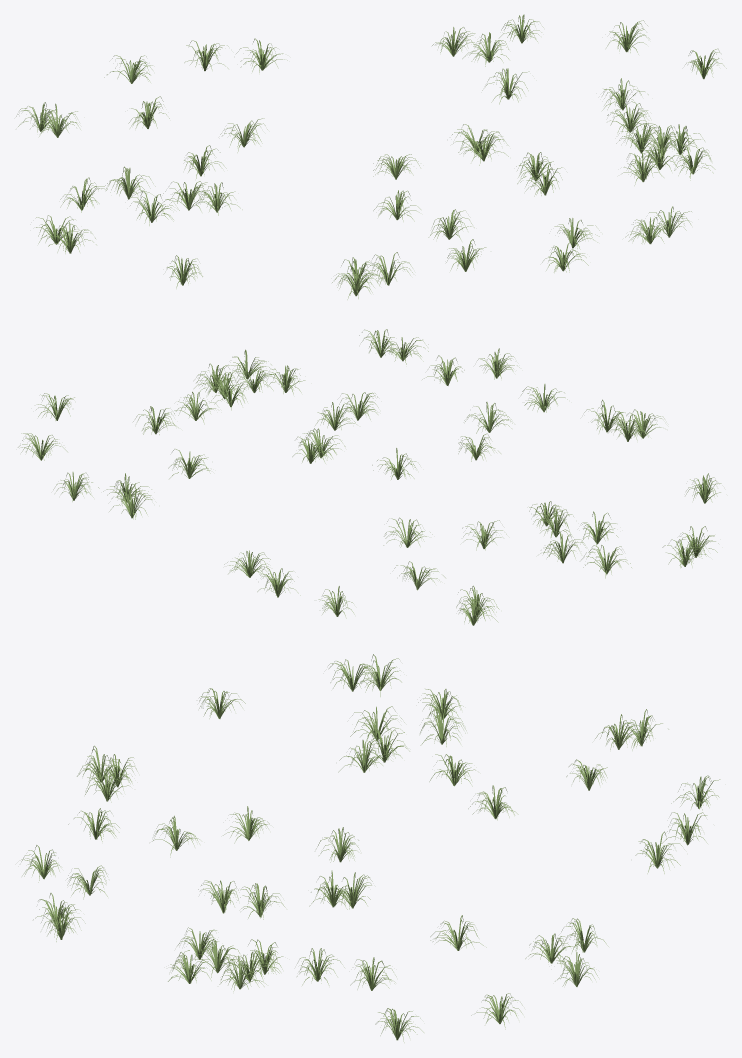
Rendered from teaching3-vegetation-19-near.glb.
3 renders of one model, top to bottom at view 1: azimuth 30°, elevation 25°; view 2: azimuth 150°, elevation 25°; view 3: azimuth 270°, elevation 25°, orthographic. The views are drawn at different scales.
Visible parts, largest first — view 1: mondo grass.002; view 2: mondo grass.002; view 3: mondo grass.002.
Boxes of the visible parts, x1=… form: mondo grass.002: x1=16, y1=14, x2=726, y2=299; mondo grass.002: x1=18, y1=329, x2=721, y2=625; mondo grass.002: x1=21, y1=654, x2=720, y2=1042.
Size of the model in its own units: 13.7 by 0.4754 by 10.99.
